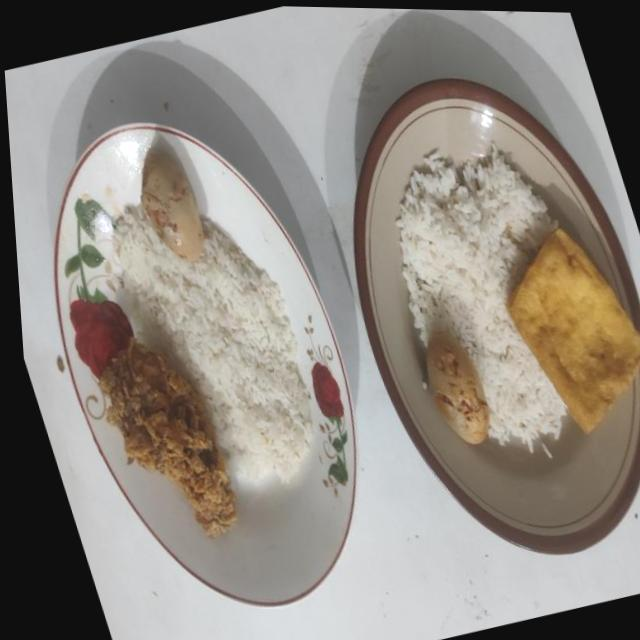nasi_putih: (112, 205, 312, 480), (396, 146, 566, 451)
tahu_goreng: (509, 229, 640, 432)
